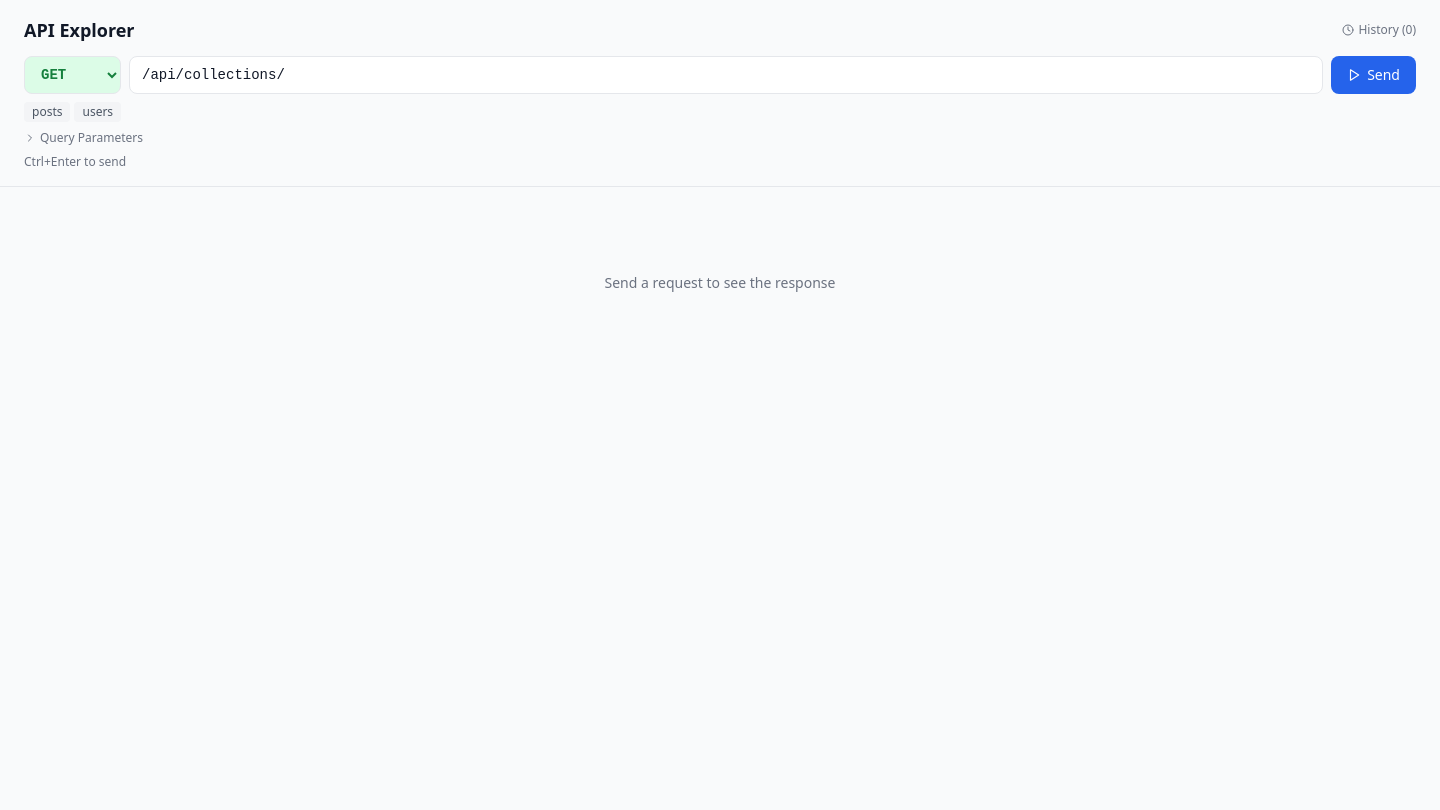
Test: ApiExplorer › retries the current request from the error panel without unmounting controls
Replace the text in the field named "Request path" with "/api/collections/posts": {"x": 726, "y": 75} [129,56,1323,94]
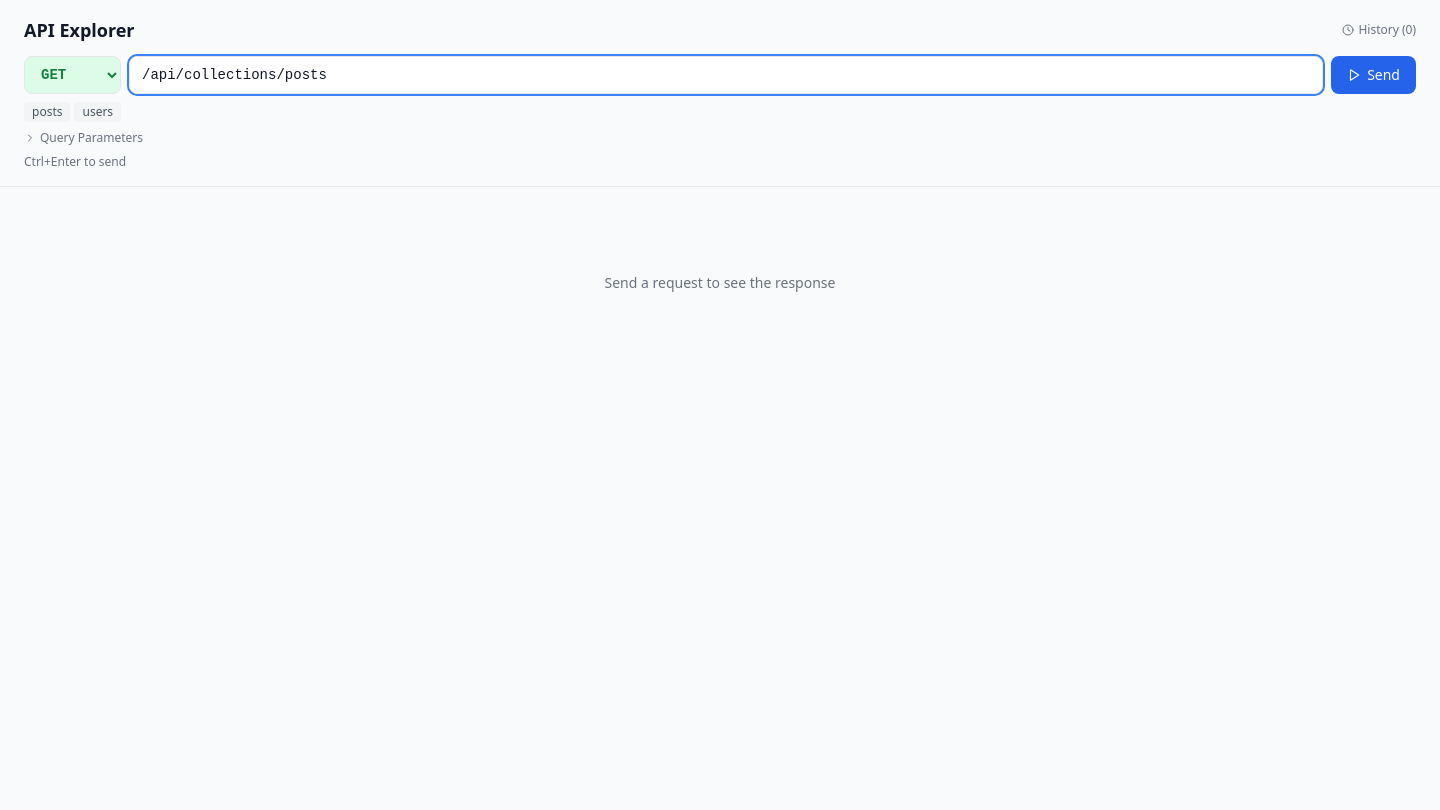
Click the button "Query Parameters": {"x": 84, "y": 138} [24,130,143,146]
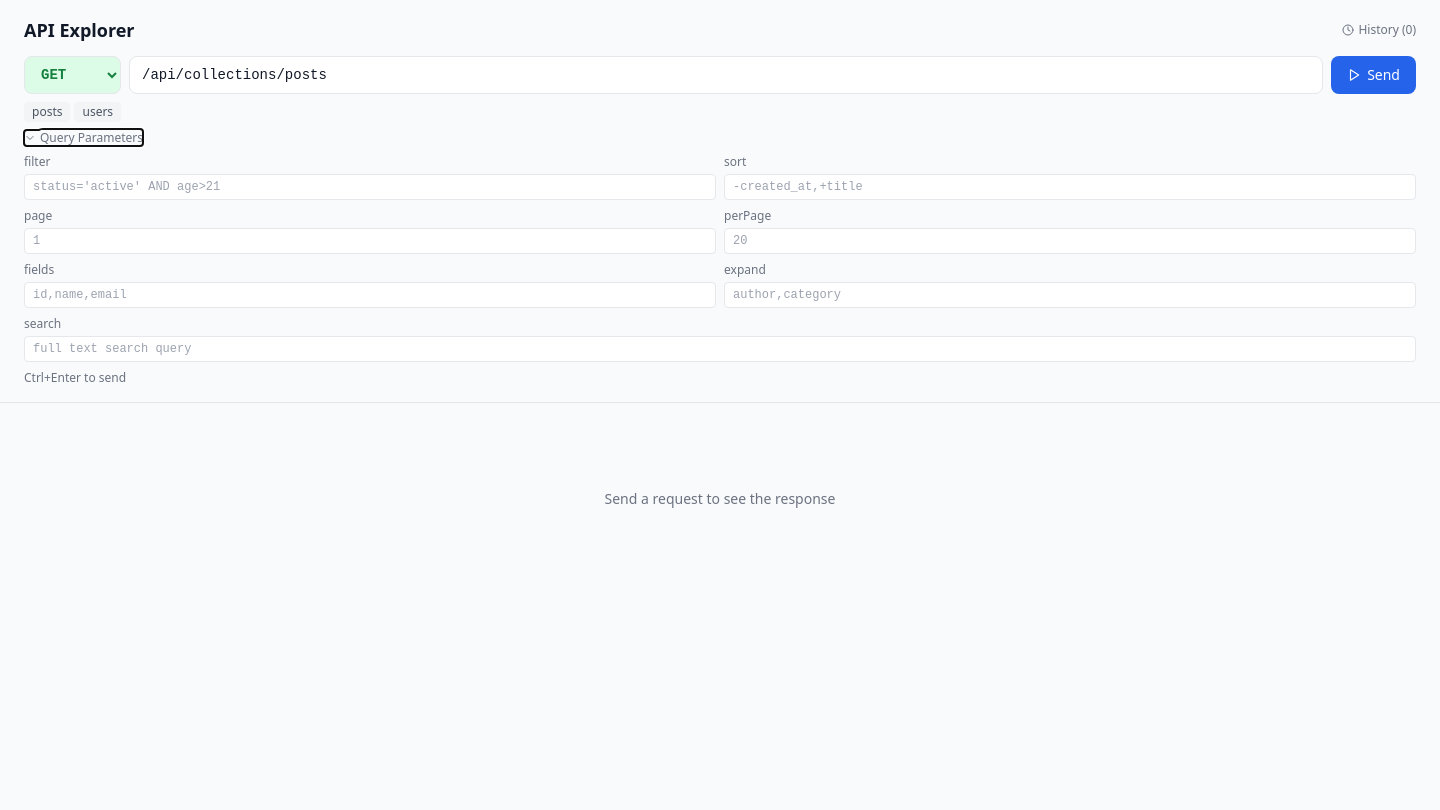
In the field named "filter": {"x": 370, "y": 187} [24,174,716,200], type "title='Retry'"
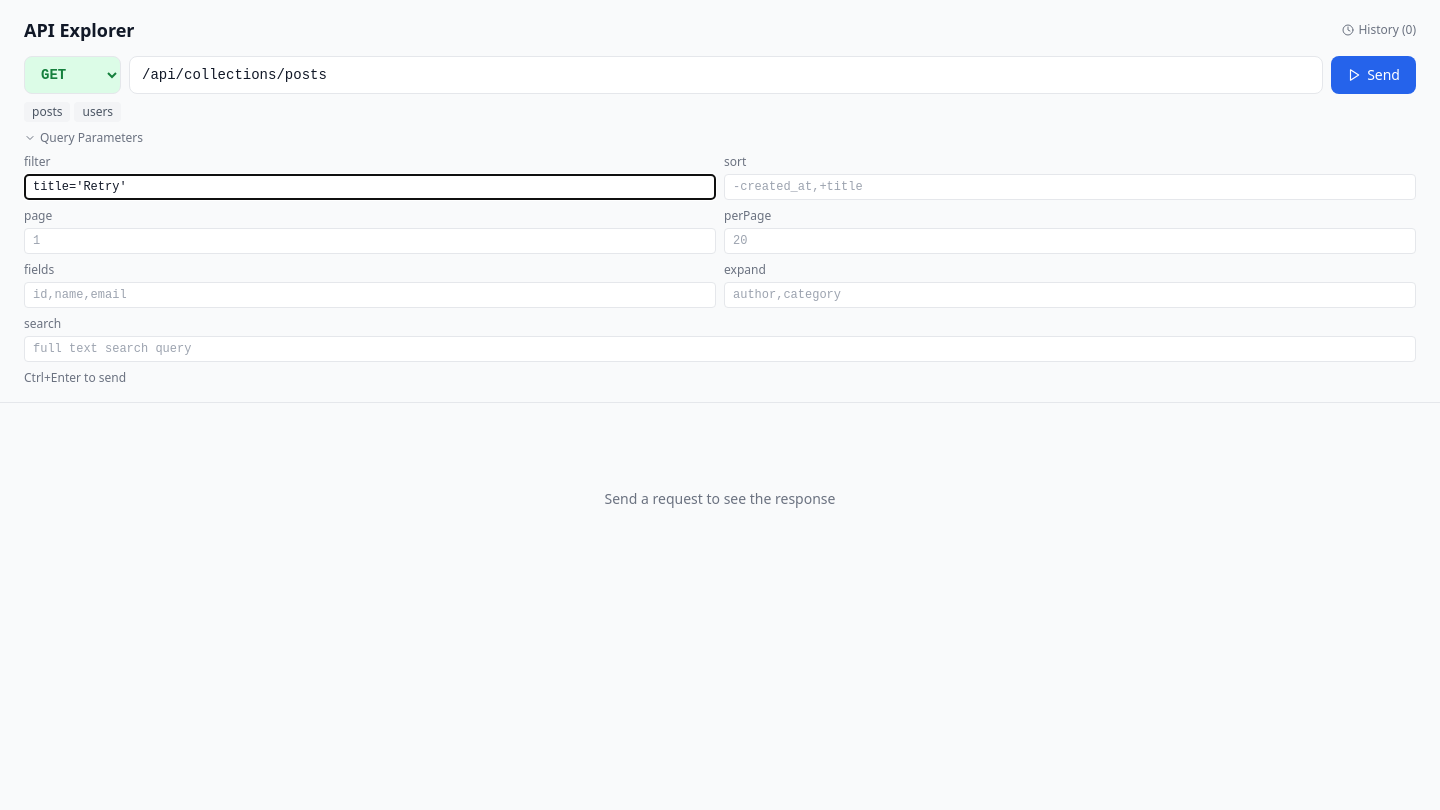
Click the button "Send": {"x": 1374, "y": 75} [1331,56,1416,94]
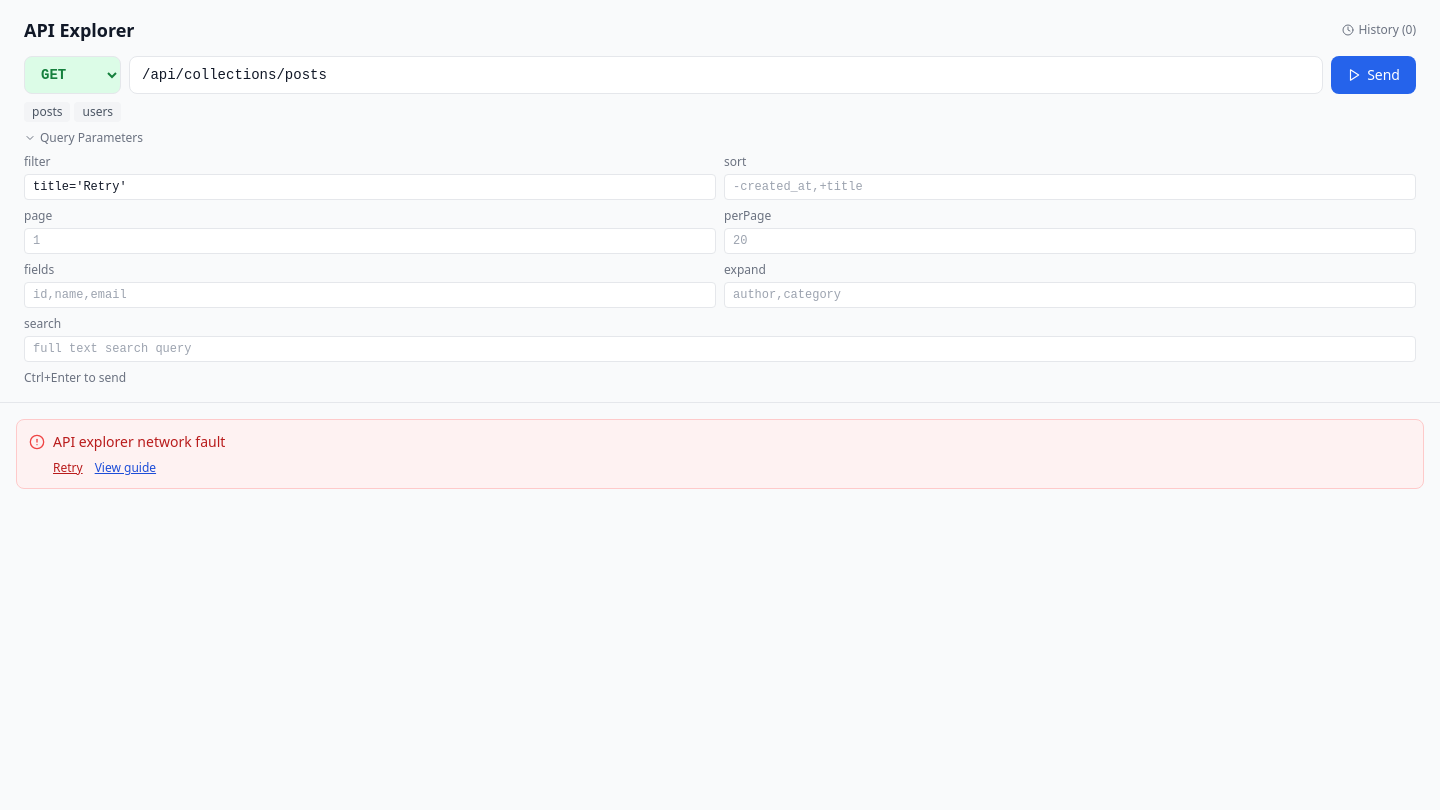
Expected: the text "API explorer network fault" is shown, [53,432,225,452]
Expected: the button "Retry" is shown
Click the button "Retry": {"x": 68, "y": 468} [53,460,83,476]
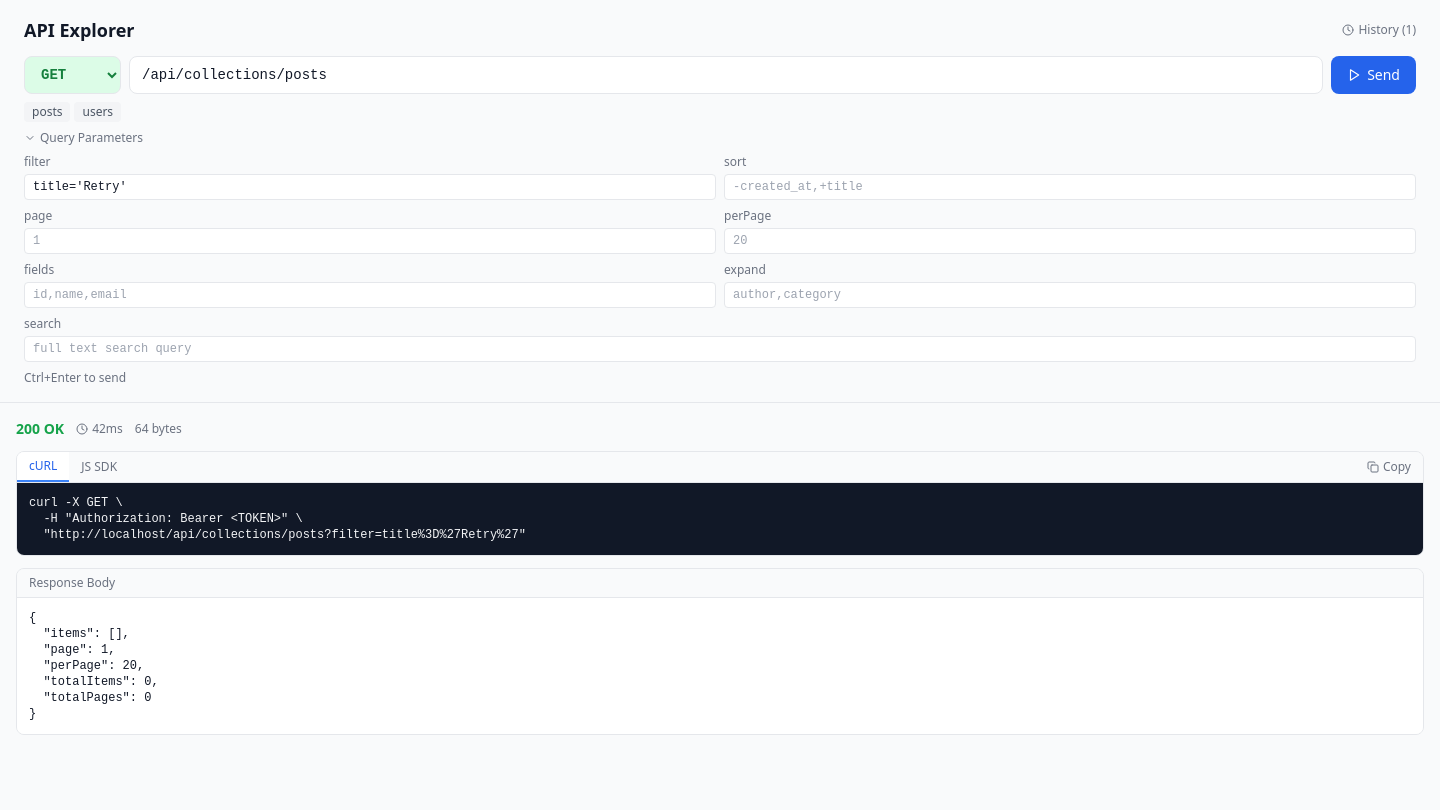
Expected: the text "200 OK" is shown, [16,419,64,439]
